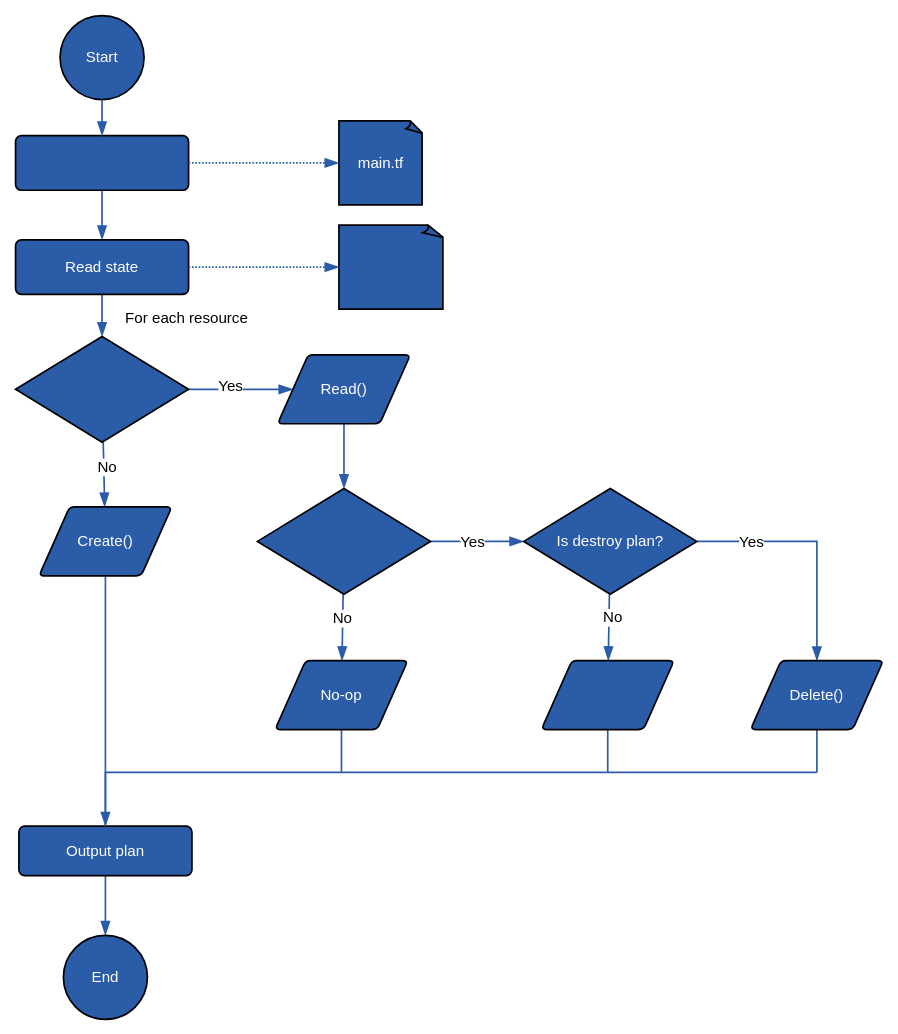
Image size: 898x1034. Some labels were removed from this diagram. Here are the shapes that lost their labels. From the top down, the centre of each, then its label:
the point at 101,162: Read configuration
the point at 391,267: terraform.tf state
the point at 101,389: Resource in state?
the point at 343,541: Has changes?
the point at 607,694: Update()
